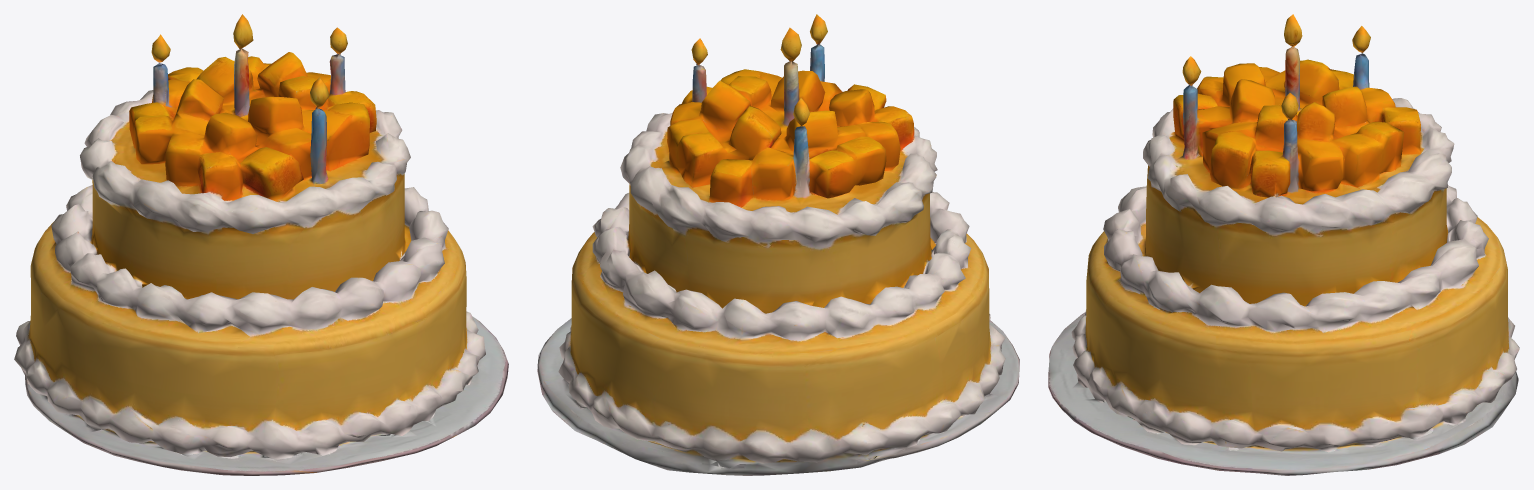
Rendered from cake.glb.
3 renders of one model, left to right at view 1: azimuth 30°, elevation 25°; view 2: azimuth 150°, elevation 25°; view 3: azimuth 270°, elevation 25°, orthographic. The views are drawn at different scales.
Size of the model in its own units: 0.9953 by 0.8283 by 0.9797.
Materials: 1 (1 with a texture image).
